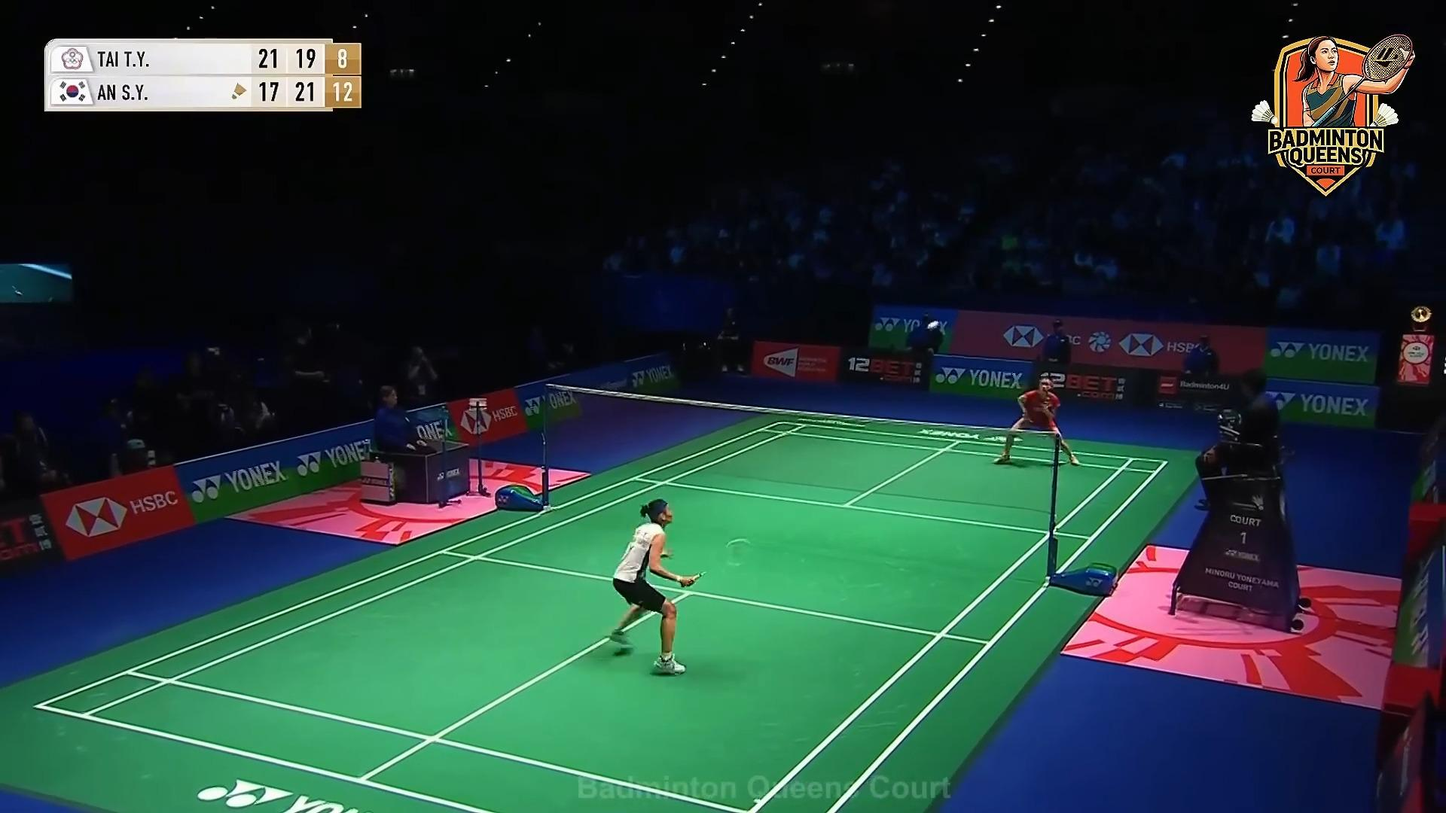player: (608, 498, 698, 676), (994, 376, 1079, 467)
